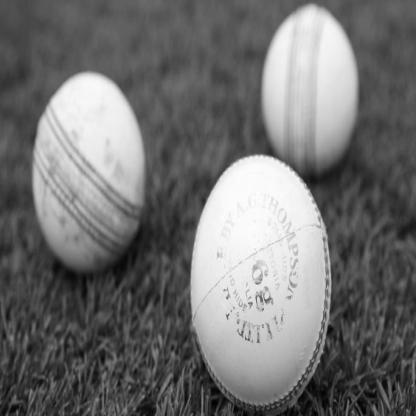bukan telur: (195, 157, 332, 413), (30, 78, 142, 270), (264, 5, 358, 171)
